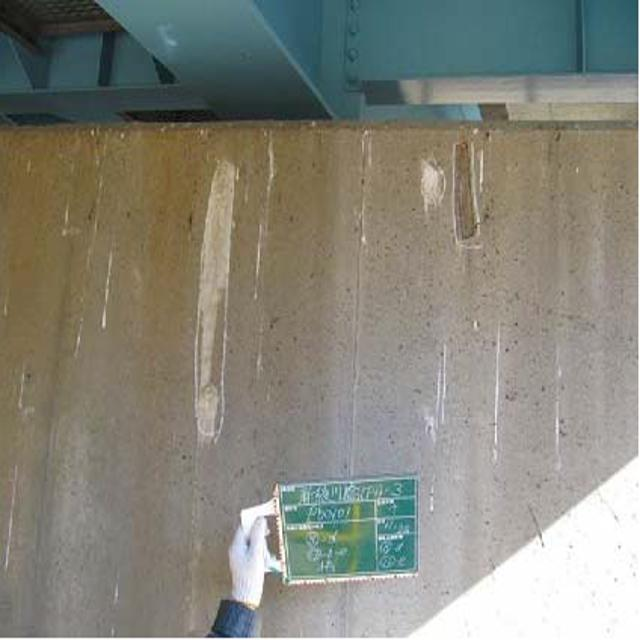freelime: (182, 147, 238, 453), (410, 153, 443, 234)
